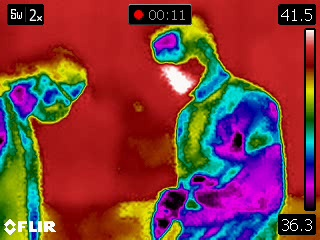human: (146, 16, 287, 240), (1, 42, 94, 240)
